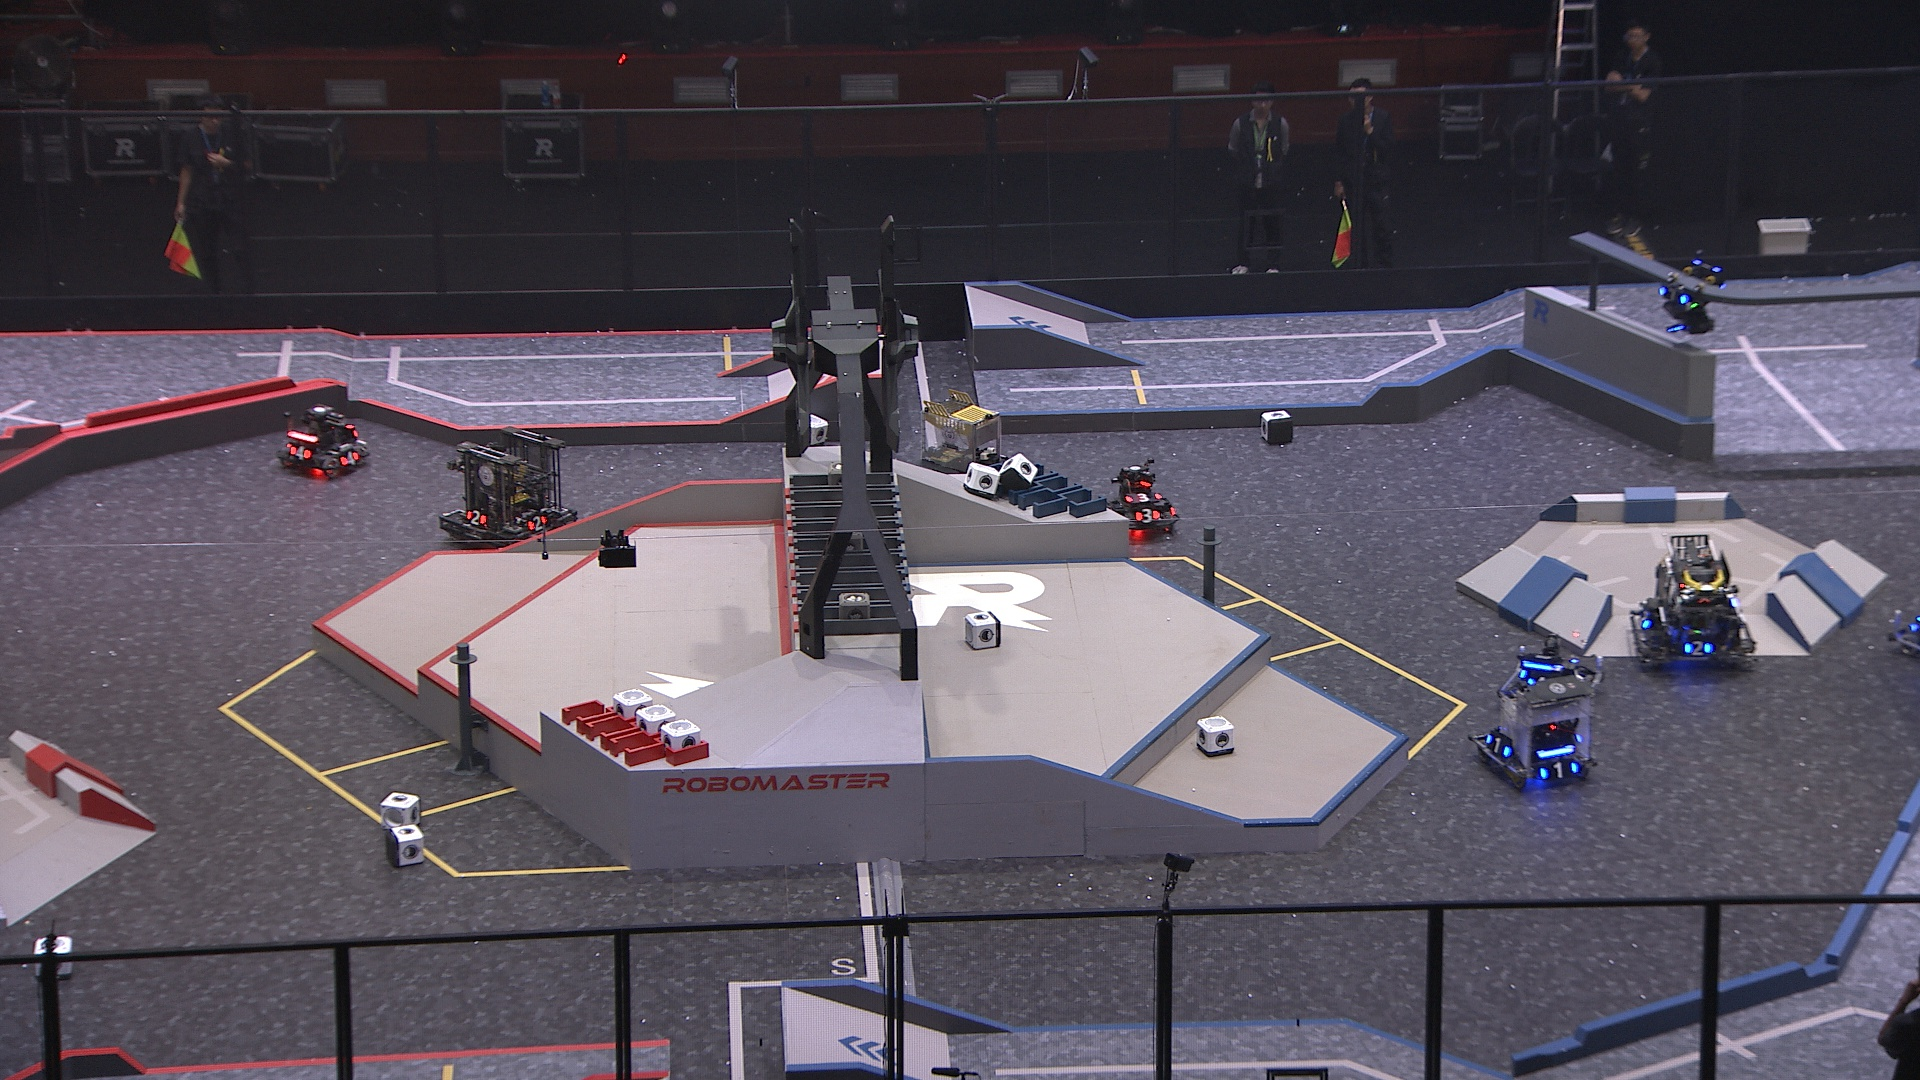armor: (1539, 760, 1577, 781), (1485, 728, 1509, 757), (1659, 284, 1685, 309), (1135, 508, 1162, 526), (1127, 491, 1160, 505), (1684, 640, 1713, 655), (339, 451, 361, 469), (526, 514, 549, 533), (1638, 605, 1652, 633), (465, 509, 487, 527), (290, 444, 311, 462)
car: (439, 419, 576, 560), (1627, 534, 1759, 673), (1470, 670, 1600, 793), (913, 398, 1021, 495), (1495, 632, 1605, 721), (276, 400, 368, 477), (1105, 465, 1179, 547)
watcher: (1655, 257, 1724, 339)
